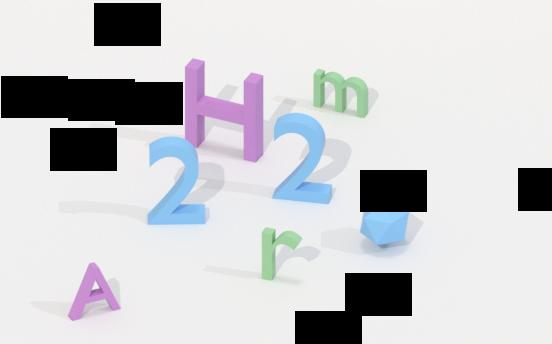2: (141, 136, 213, 229), (269, 110, 334, 205)
A-hoa: (63, 259, 127, 325)
H-hoa: (183, 55, 264, 166)
R: (257, 228, 308, 282)
dagiac: (356, 196, 415, 248)
m: (308, 65, 375, 119)
